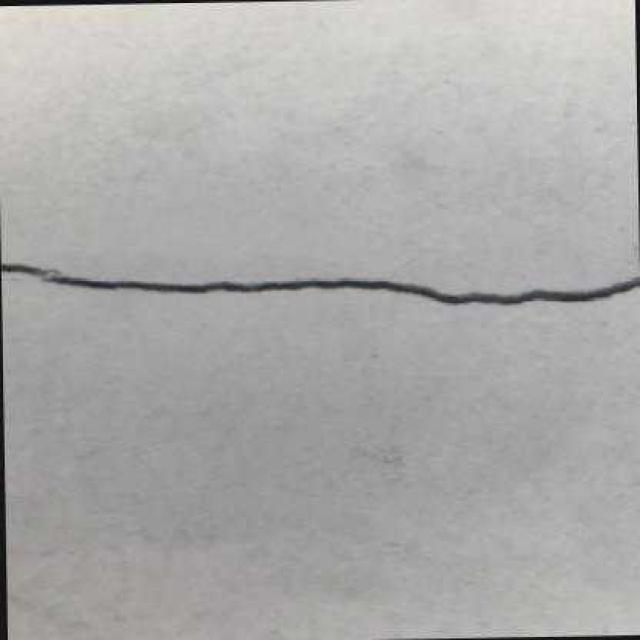D00: (0, 259, 637, 308)
